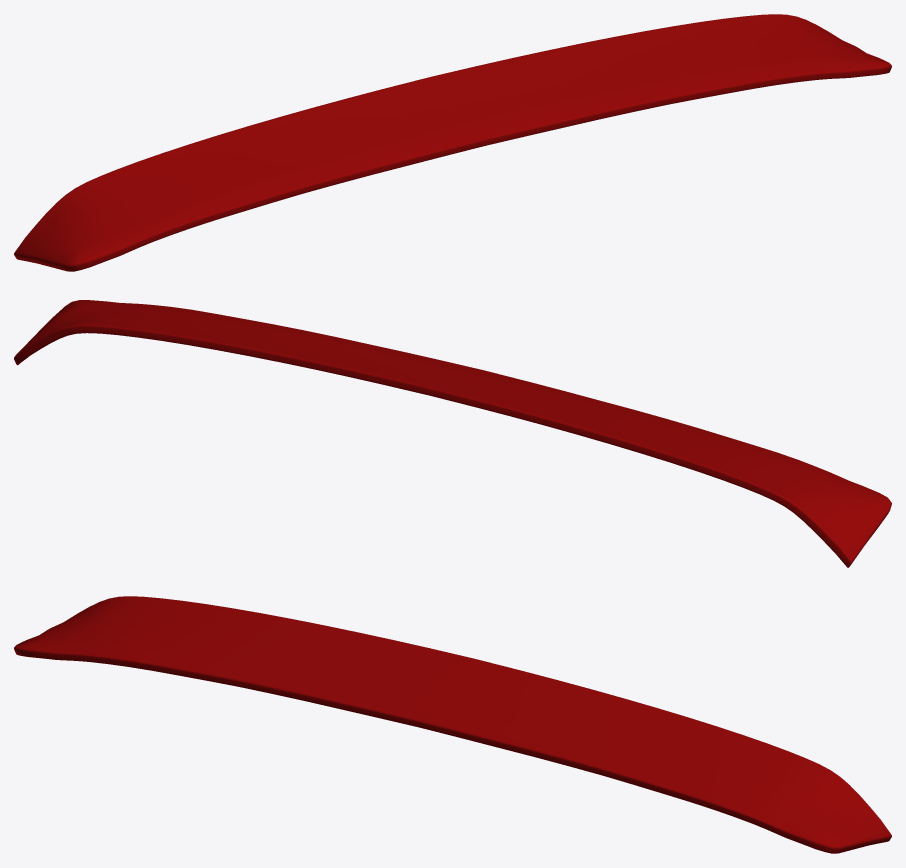
The model's file is roofspoiler_type2.glb.
3 renders of one model, top to bottom at view 1: azimuth 30°, elevation 25°; view 2: azimuth 150°, elevation 25°; view 3: azimuth 330°, elevation 25°, orthographic.
Parts seen in each view (by area): view 1: Spoiler; view 2: Spoiler; view 3: Spoiler.
Part boxes in pixels (x1=…): Spoiler: x1=14, y1=14, x2=891, y2=271; Spoiler: x1=14, y1=300, x2=891, y2=567; Spoiler: x1=14, y1=596, x2=891, y2=853.
Bounding box in the file's own units: 1.05 × 0.0954 × 0.1209.
